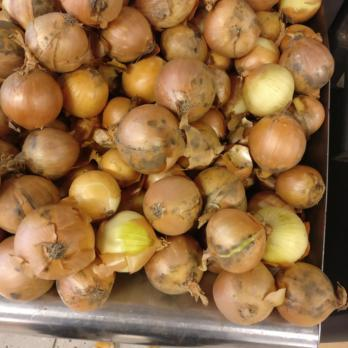Onion: (2, 5, 336, 315)
